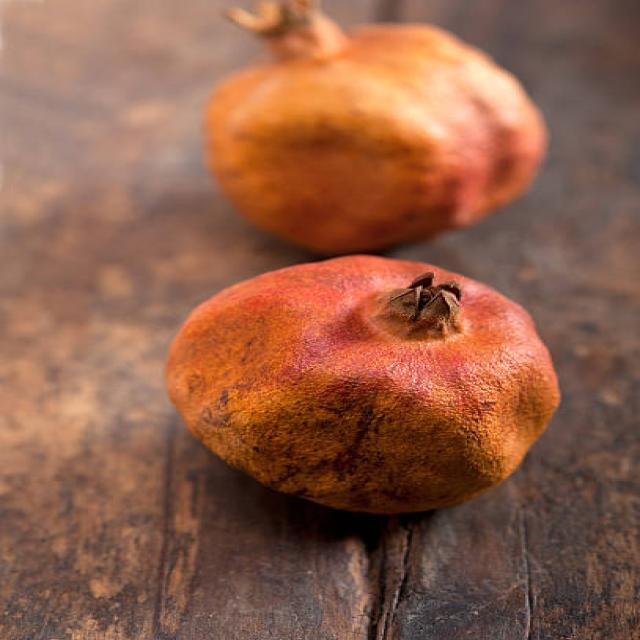overripe: (157, 251, 566, 518), (194, 0, 553, 244)
